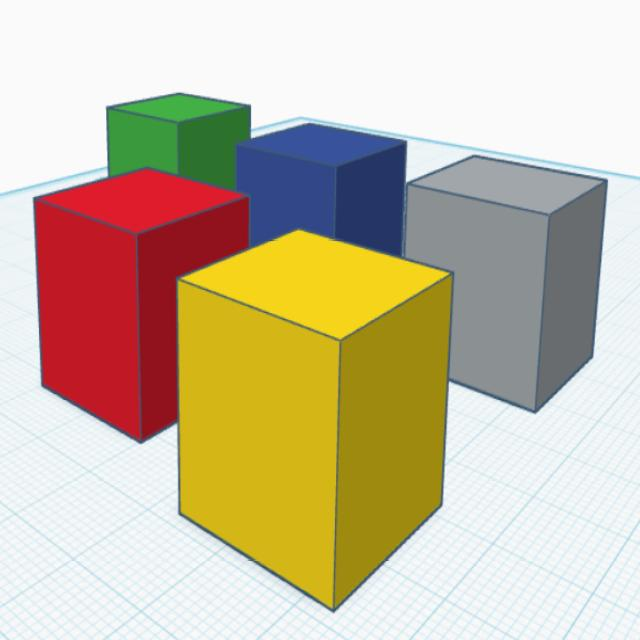cube: (174, 225, 457, 616)
